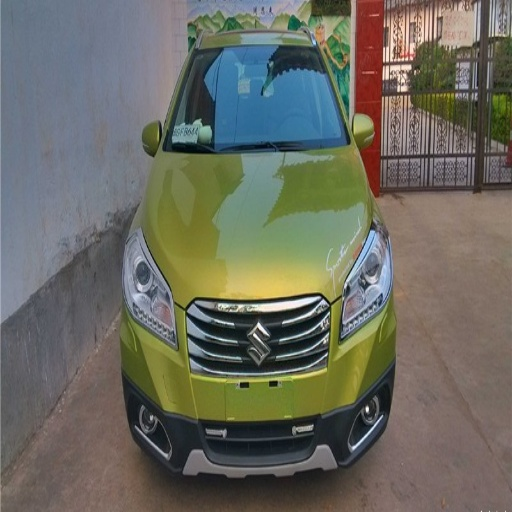front_bumper: (121, 297, 387, 473)
front_right_light: (125, 229, 178, 348)
hood: (143, 145, 370, 299)
